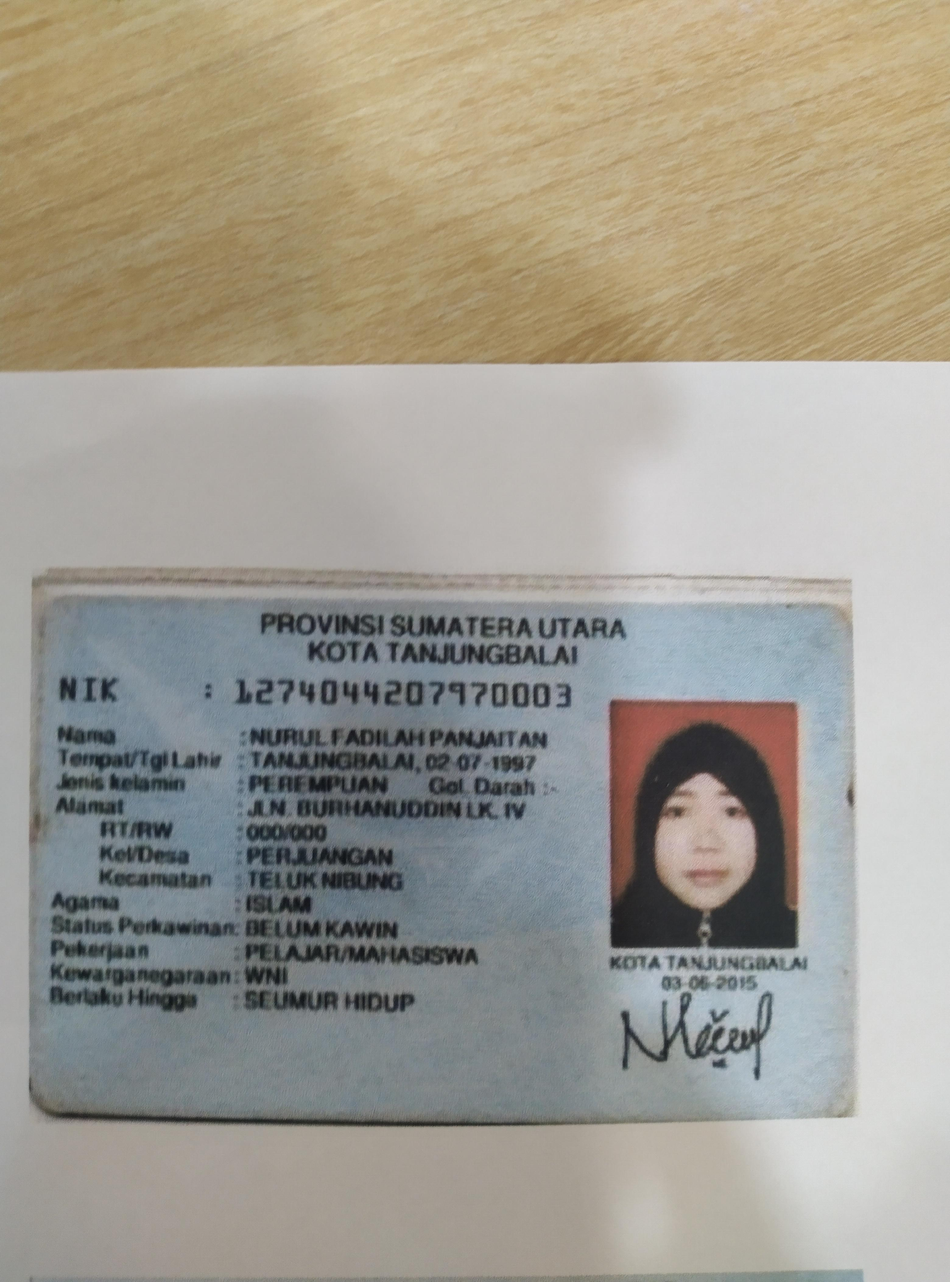ktp: (39, 569, 838, 1112)
